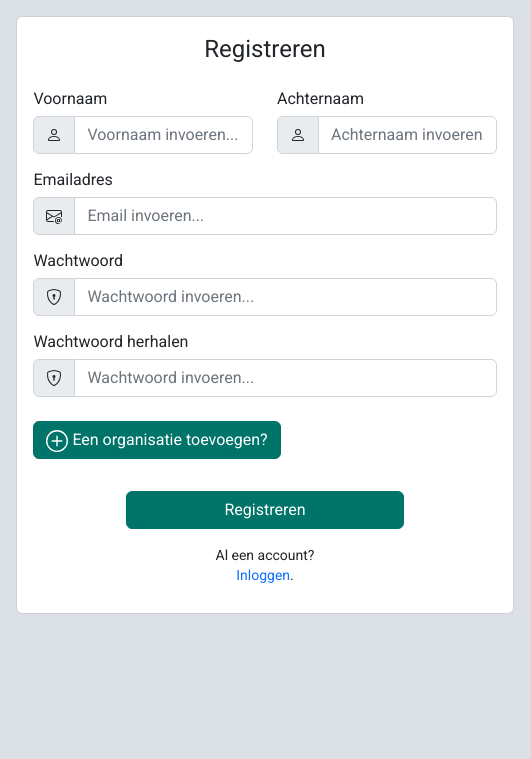
Scenario: Testing the register page functionalities. › Search for the Create organisation button. Should open a dialog. Type in a emial adress, check if the domain name will be given
Type "JohnDoe@Chicken.com" into the field with id "emailInput". click: x=285, y=216
box: x1=74 y1=197 x2=496 y2=235
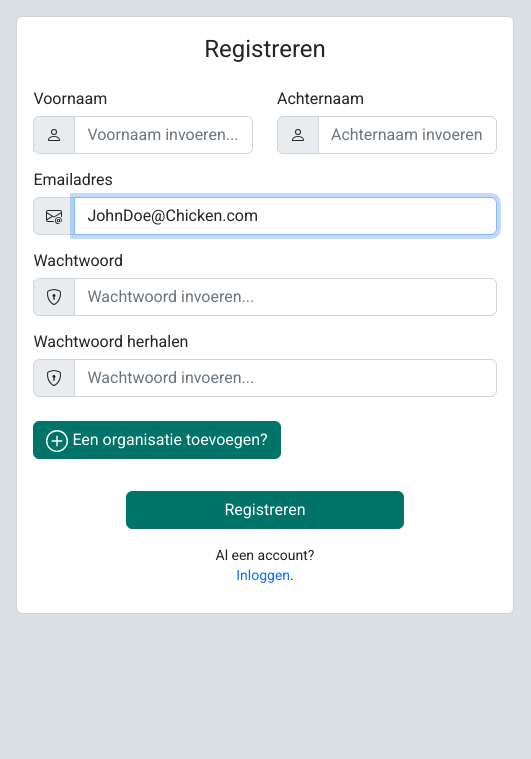
Click the button "Een organisatie toevoegen? ". click: x=157, y=440
box: x1=33 y1=421 x2=280 y2=459
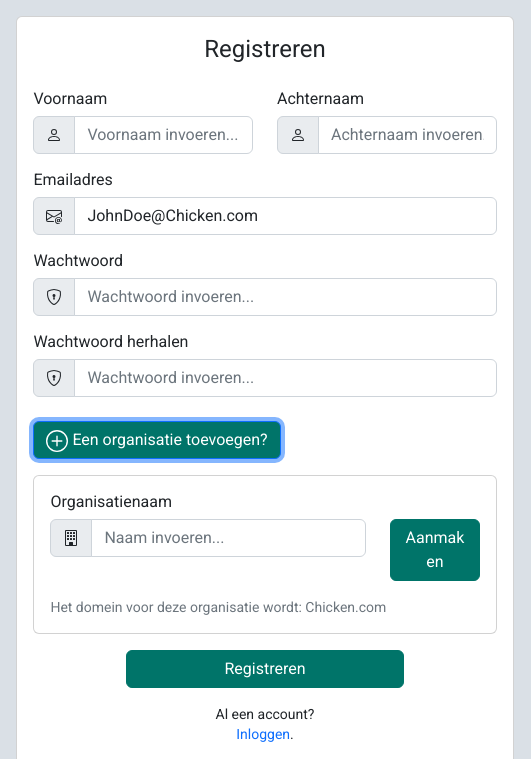
Result: the text "Het domein voor deze organisatie wordt: Chicken.com" is shown once at x1=50 y1=599 x2=386 y2=615
